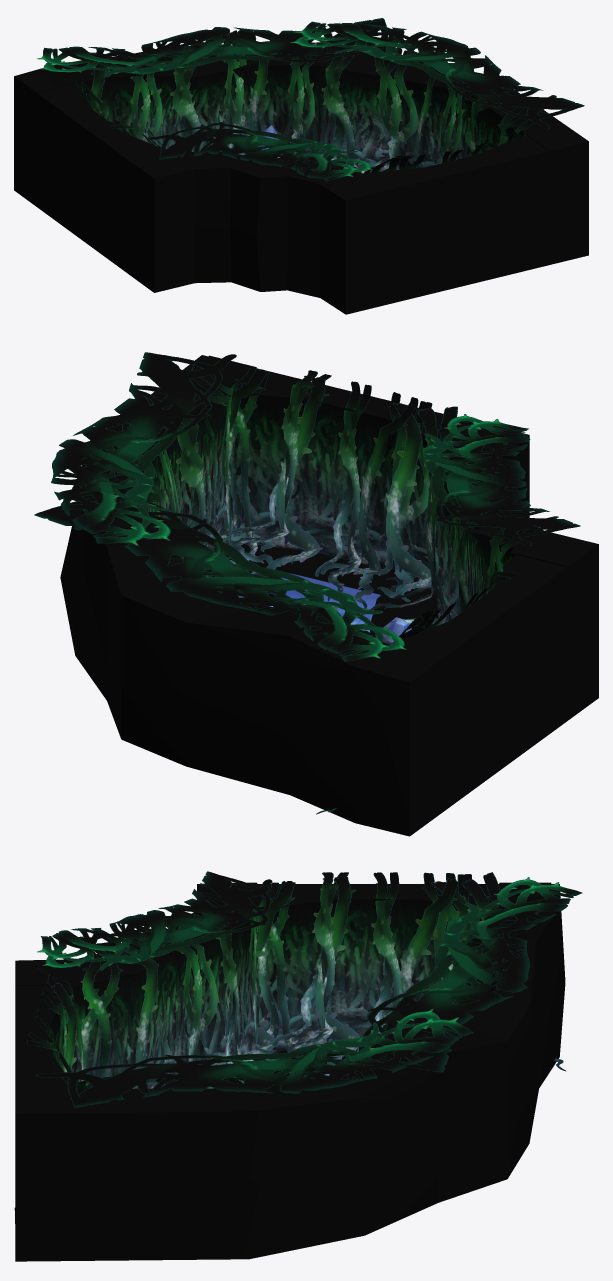
The model's file is Dungeon_012_RoadL_002.fbx.
3 renders of one model, top to bottom at view 1: azimuth 30°, elevation 25°; view 2: azimuth 150°, elevation 25°; view 3: azimuth 270°, elevation 25°, orthographic. The views are drawn at different scales.
Parts seen in each view (by area): view 1: Dan1, un_021_Door_002 (×2), Dungeon_021_Tsuta_002, Dungeon_021_Tsuta_001, un_021_Door_002_Object1 (×2); view 2: Dan1, un_021_Door_002 (×2), Dungeon_021_Tsuta_002, un_021_Door_002_Object1 (×2), Dungeon_021_Tsuta_001, Dan1_shadow, Dun_011_Door_002_shadow, Dan2; view 3: Dan1, Dungeon_021_Tsuta_002, un_021_Door_002 (×2), un_021_Door_002_Object1 (×2), Dungeon_021_Tsuta_001.
Part boxes in pixels (x1,y1,x2,y2): Dan1: [14, 41, 588, 314]; un_021_Door_002 (×2): [17, 72, 582, 304]; Dungeon_021_Tsuta_002: [37, 18, 584, 181]; Dungeon_021_Tsuta_001: [86, 30, 547, 173]; un_021_Door_002_Object1 (×2): [72, 79, 526, 174]; Dan1: [60, 355, 598, 836]; un_021_Door_002 (×2): [189, 355, 594, 812]; Dungeon_021_Tsuta_002: [34, 352, 580, 661]; un_021_Door_002_Object1 (×2): [219, 368, 524, 814]; Dungeon_021_Tsuta_001: [113, 363, 540, 637]; Dan1_shadow: [206, 544, 438, 635]; Dun_011_Door_002_shadow: [275, 549, 397, 594]; Dan2: [238, 573, 380, 632]; Dan1: [15, 884, 565, 1261]; Dungeon_021_Tsuta_002: [36, 871, 582, 1107]; un_021_Door_002 (×2): [15, 882, 551, 1109]; un_021_Door_002_Object1 (×2): [26, 872, 566, 1083]; Dungeon_021_Tsuta_001: [76, 883, 527, 1088].
Size of what is drawn, in the model's own units: 7.27 by 2.36 by 7.25.
